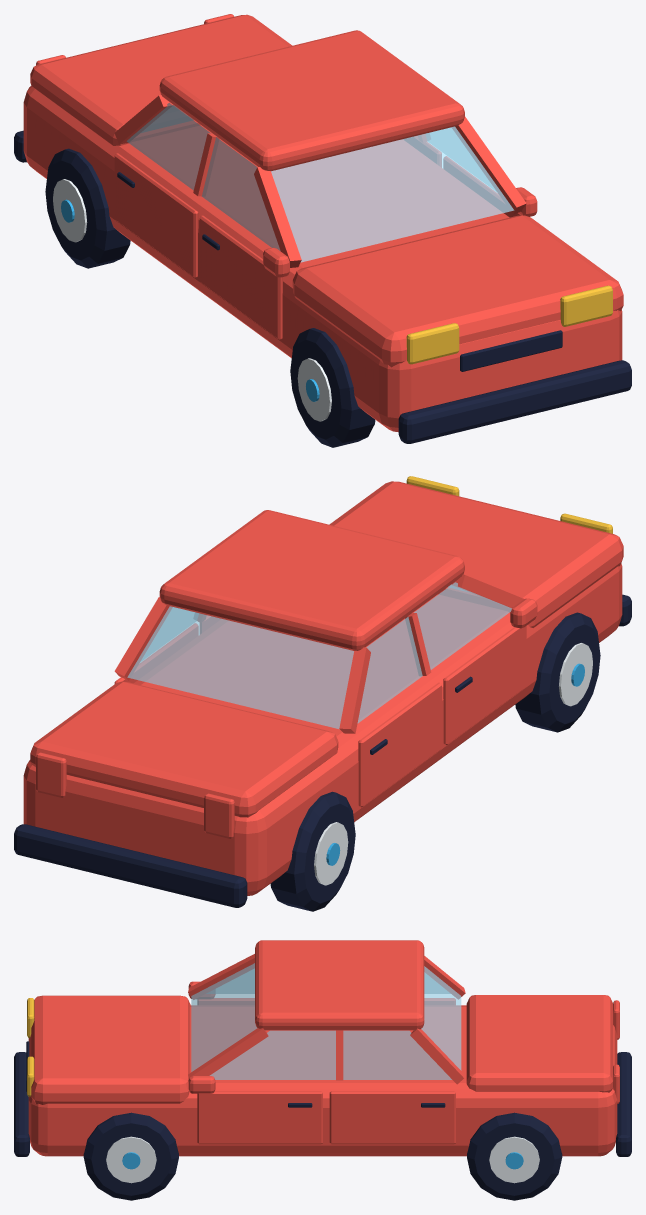
The model's file is V02_sedan.glb.
3 views of the same model, one above another, from view 1: azimuth 30°, elevation 25°; view 2: azimuth 150°, elevation 25°; view 3: azimuth 270°, elevation 25° (orthographic). The views are drawn at different scales.
Visible parts, largest first — view 1: Body, Glass, Trunk, Bumper_Front, Wheel_RR, Wheel_FR, Door_Rear_R, Door_R, Grille, Headlight_-1, Headlight_1, Door_L (+1 smaller); view 2: Body, Trunk, Glass, Bumper_Rear, Wheel_RR, Wheel_FR, Door_Rear_R, Door_R, Taillight_-1, Taillight_1, Door_Rear_L, Mirror_R; view 3: Body, Glass, Trunk, Door_Rear_L, Door_L, Wheel_RL, Wheel_FL, Bumper_Front, Bumper_Rear, Mirror_L, Door_R.
Boxes of the visible parts, bbox=[...] form: Body: bbox=[23, 30, 623, 432]; Glass: bbox=[127, 103, 513, 262]; Trunk: bbox=[30, 14, 292, 145]; Bumper_Front: bbox=[398, 360, 631, 443]; Wheel_RR: bbox=[45, 148, 130, 268]; Wheel_FR: bbox=[290, 328, 375, 447]; Door_Rear_R: bbox=[114, 153, 198, 277]; Door_R: bbox=[199, 215, 282, 339]; Grille: bbox=[460, 330, 562, 371]; Headlight_-1: bbox=[406, 323, 459, 364]; Headlight_1: bbox=[560, 285, 612, 326]; Door_L: bbox=[443, 156, 522, 217]; Body: bbox=[23, 481, 623, 895]; Trunk: bbox=[30, 681, 338, 817]; Glass: bbox=[127, 582, 511, 728]; Bumper_Rear: bbox=[14, 824, 247, 907]; Wheel_RR: bbox=[270, 791, 355, 911]; Wheel_FR: bbox=[515, 612, 600, 732]; Door_Rear_R: bbox=[358, 682, 441, 807]; Door_R: bbox=[443, 626, 526, 745]; Taillight_-1: bbox=[204, 793, 234, 838]; Taillight_1: bbox=[36, 752, 66, 797]; Door_Rear_L: bbox=[114, 623, 198, 683]; Mirror_R: bbox=[510, 598, 537, 628]; Body: bbox=[28, 940, 617, 1156]; Glass: bbox=[191, 963, 461, 1079]; Trunk: bbox=[466, 995, 613, 1092]; Door_Rear_L: bbox=[329, 1091, 455, 1144]; Door_L: bbox=[197, 1091, 322, 1144]; Wheel_RL: bbox=[467, 1112, 562, 1200]; Wheel_FL: bbox=[83, 1112, 178, 1200]; Bumper_Front: bbox=[14, 1052, 29, 1156]; Bumper_Rear: bbox=[616, 1052, 631, 1156]; Mirror_L: bbox=[188, 1076, 215, 1093]; Door_R: bbox=[197, 998, 254, 1004].
Size of the model in its own units: 1.8 by 1.45 by 4.6.
